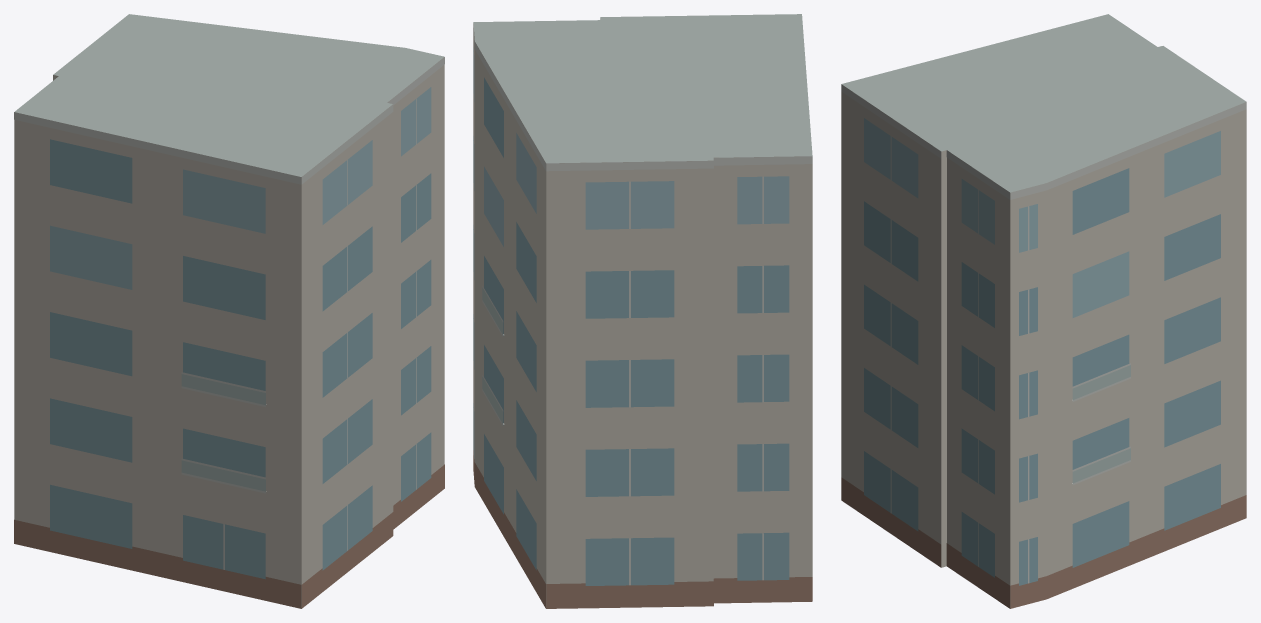
File: residential-0c7ff3fa-3575-48c8-87e6-1394156e68b9.glb
3 views of the same model, side by side, from view 1: azimuth 30°, elevation 25°; view 2: azimuth 150°, elevation 25°; view 3: azimuth 270°, elevation 25° (orthographic). The views are drawn at different scales.
Visible parts, largest first — view 1: residential-0c7ff3fa-3575-48c8-87e6-1394156e68b9.tmp; view 2: residential-0c7ff3fa-3575-48c8-87e6-1394156e68b9.tmp; view 3: residential-0c7ff3fa-3575-48c8-87e6-1394156e68b9.tmp.
Part boxes in pixels (x1,y1,x2,y2): residential-0c7ff3fa-3575-48c8-87e6-1394156e68b9.tmp: [14, 14, 444, 608]; residential-0c7ff3fa-3575-48c8-87e6-1394156e68b9.tmp: [473, 14, 812, 608]; residential-0c7ff3fa-3575-48c8-87e6-1394156e68b9.tmp: [841, 14, 1246, 608].
Size of the model in its own units: 12.71 by 13.8 by 12.19.
